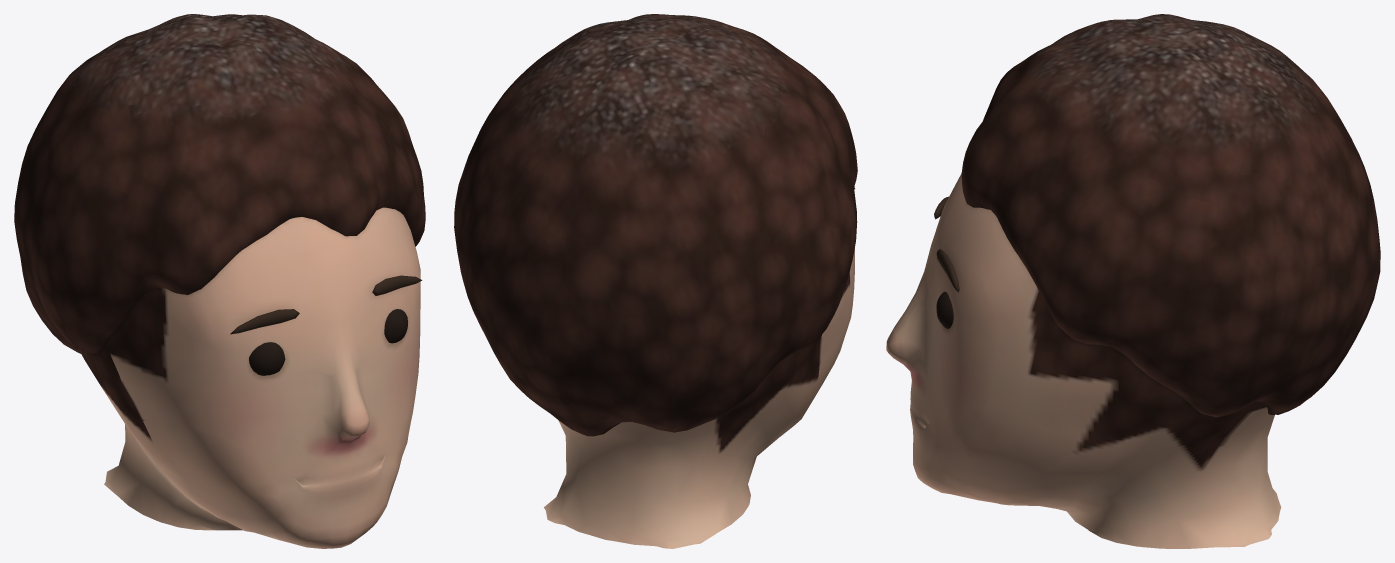
Rendered from PH_NPC__Ajumma_Head.fbx.
The picture shows the model from 3 angles, left to right: view 1: azimuth 30°, elevation 25°; view 2: azimuth 150°, elevation 25°; view 3: azimuth 270°, elevation 25°; orthographic projection. The views are drawn at different scales.
Parts seen in each view (by area): view 1: PH_NPC__Ajumma_Head; view 2: PH_NPC__Ajumma_Head; view 3: PH_NPC__Ajumma_Head.
Boxes of the visible parts, x1,y1,x2,y2 form: PH_NPC__Ajumma_Head: (14,14,425,548); PH_NPC__Ajumma_Head: (454,14,857,548); PH_NPC__Ajumma_Head: (886,14,1380,548).
Bounding box in the file's own units: 0.2259 × 0.2875 × 0.2725.
